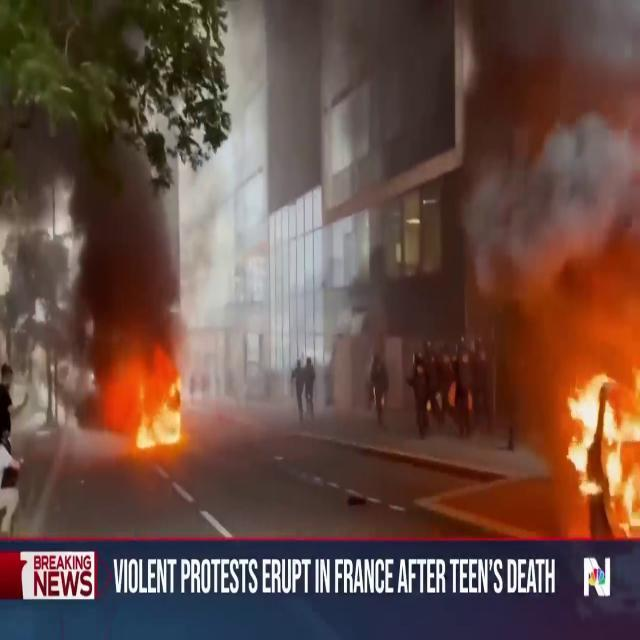Fire: (557, 344, 640, 537), (112, 350, 192, 454)
Smoke: (425, 0, 640, 382), (30, 110, 234, 370)
